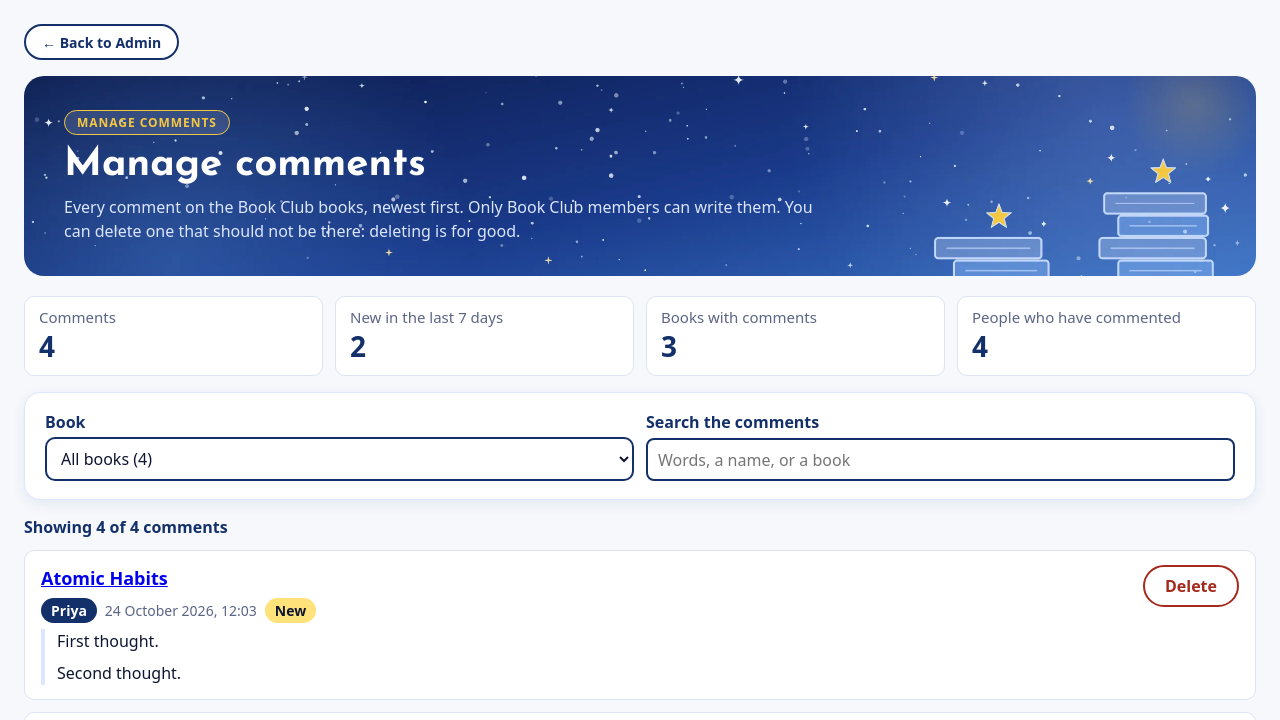
Scenario: deleting a comment › goes back to all books if you delete the last comment on the book you were looking at
Expected: the text "Showing 4 of 4 comments" is shown, [24, 516, 228, 538]
Select "Radical Candor (1)" in the dropdown labelled "Book" at {"x": 340, "y": 459}, box [45, 437, 634, 481]
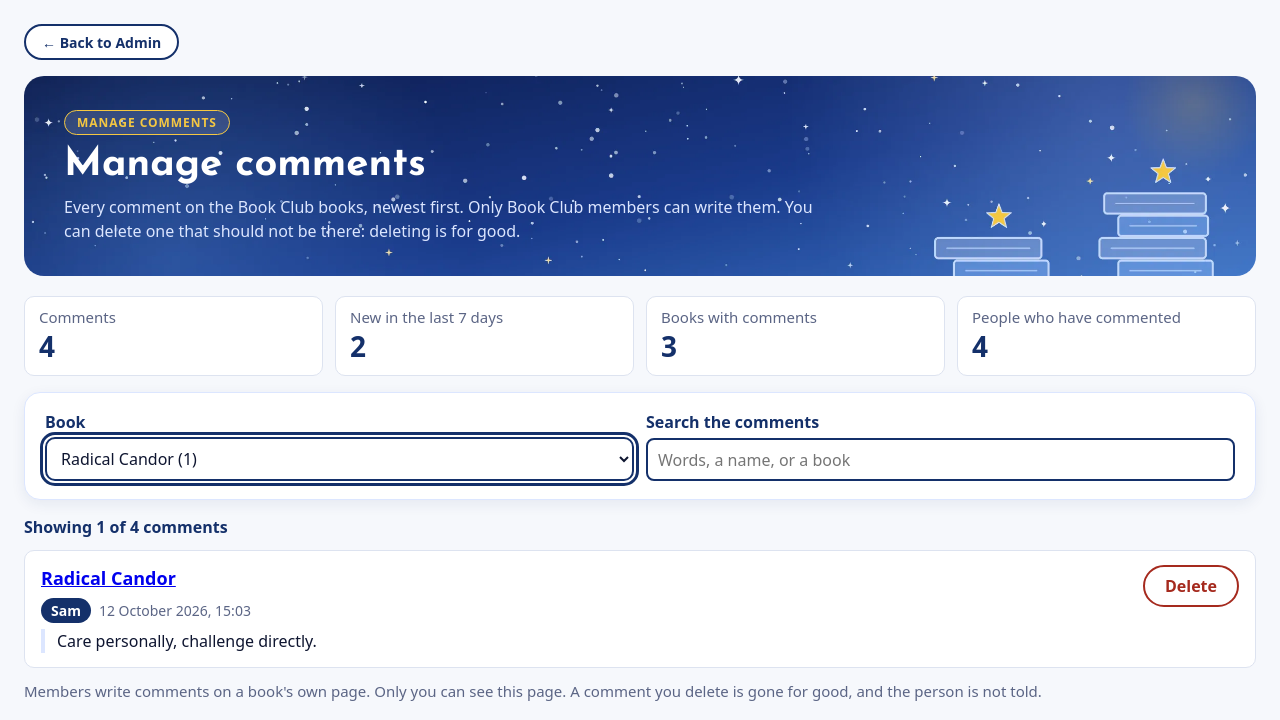
Click the button with aria-label "Delete the comment by Sam on Radical Candor" at {"x": 1191, "y": 586}, box [1143, 565, 1239, 607]
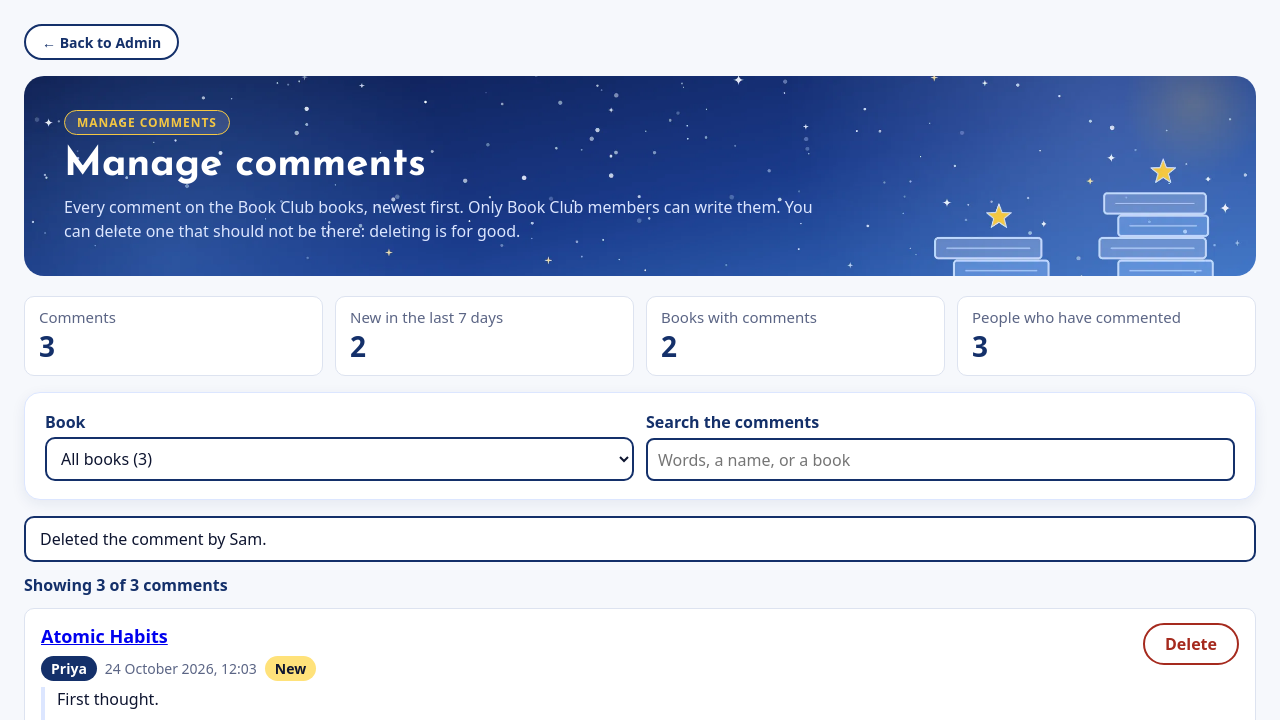
Expected: the message reads "Showing 3 of 3 comments", [24, 574, 228, 596]
